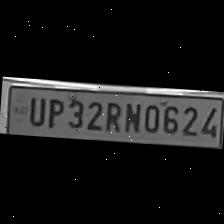0: (140, 99, 160, 132)
2: (83, 95, 103, 130), (178, 103, 197, 136)
3: (64, 94, 84, 128)
4: (198, 101, 218, 136)
6: (159, 100, 179, 134)
N: (121, 98, 141, 133)
P: (44, 94, 64, 128)
R: (102, 96, 122, 132)
U: (24, 92, 46, 125)
